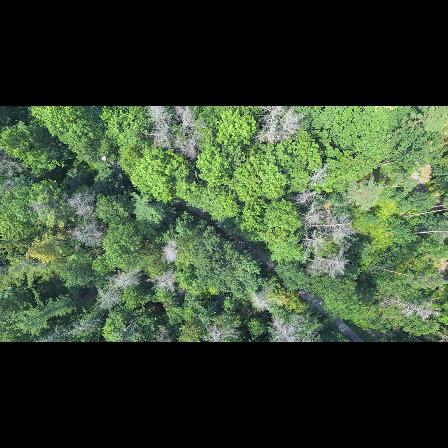Dead: (376, 291, 441, 318), (264, 314, 319, 342), (308, 255, 348, 277), (68, 192, 100, 219), (74, 226, 109, 247), (173, 106, 203, 130), (174, 133, 200, 160), (280, 108, 301, 139), (0, 152, 28, 175), (157, 266, 178, 296), (309, 157, 332, 184), (301, 220, 354, 231), (149, 106, 171, 130), (119, 270, 148, 288), (289, 190, 319, 207), (264, 105, 284, 129), (150, 129, 175, 147), (160, 243, 183, 261), (259, 123, 278, 142), (102, 293, 122, 308)
